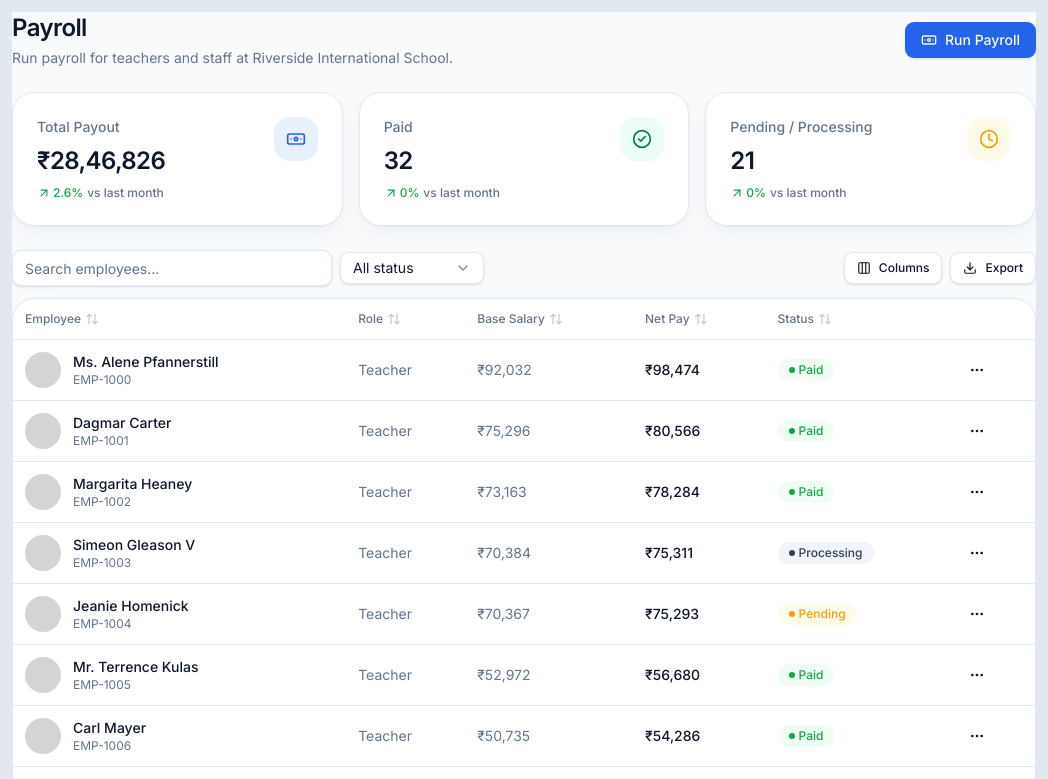
it: PayrollPage › disables Run Payroll once there are no pending records left
The width and height of the screenshot is (1048, 779).
Click the button "Run Payroll" at (970, 40), box [905,22,1036,58]
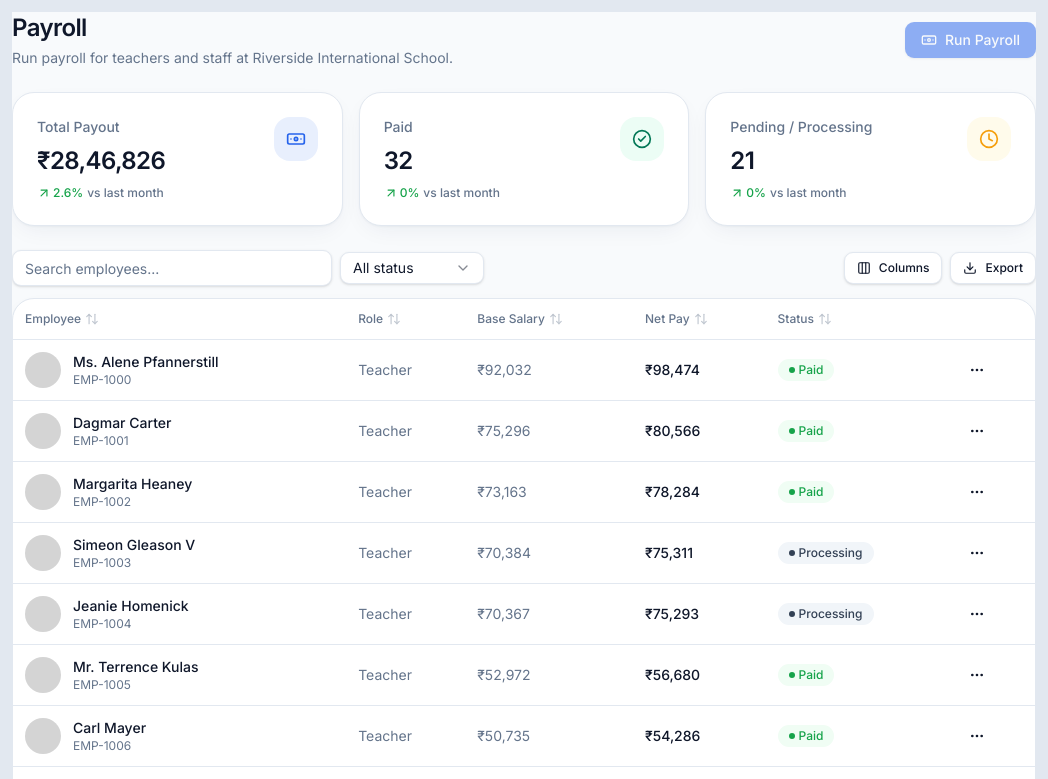
Check: the button "Run Payroll" is disabled, box [905,22,1036,58]
